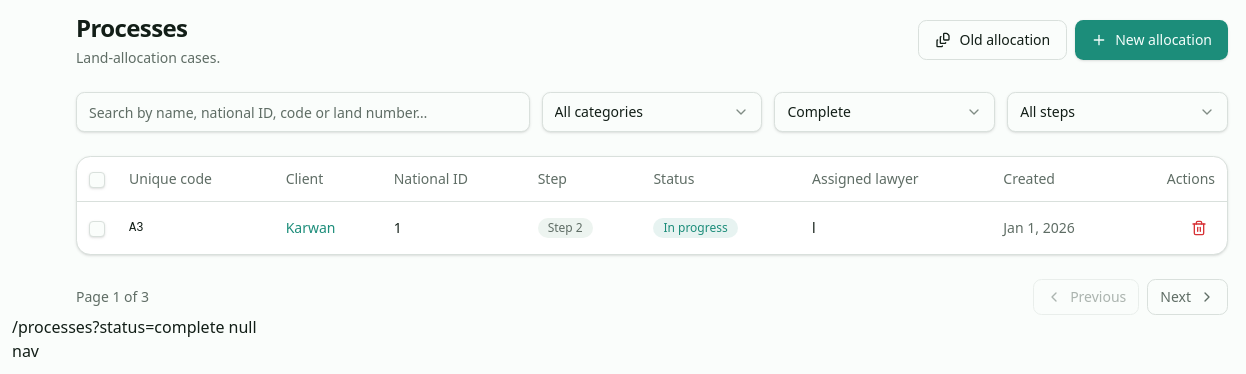
Scenario: ProcessesPage filters in the URL › sends the list URL along with the row into the case
The width and height of the screenshot is (1246, 374).
Click the text "A3".
click(136, 228)  # box [117,201,274,254]
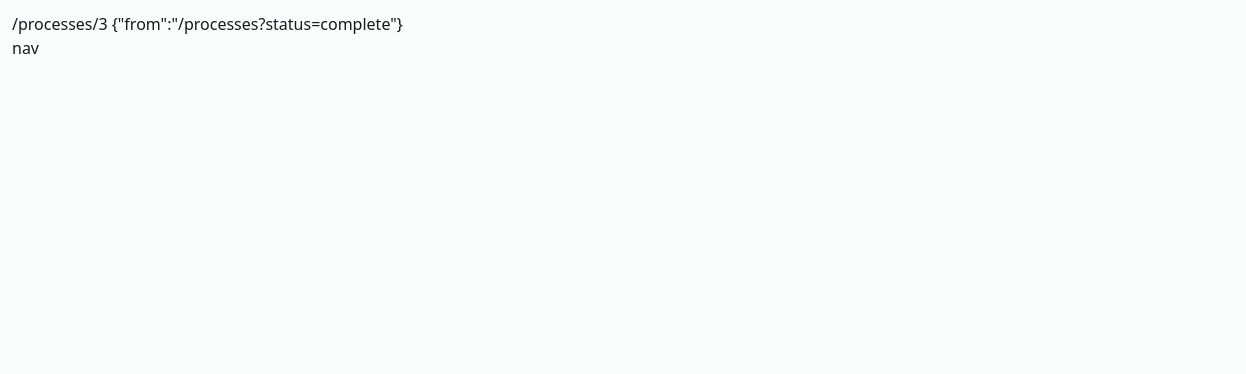
Expected: the text with test id "where" reads "/processes/3 {\"from\":\"/processes?status=complete\"}", [12,13,403,35]
